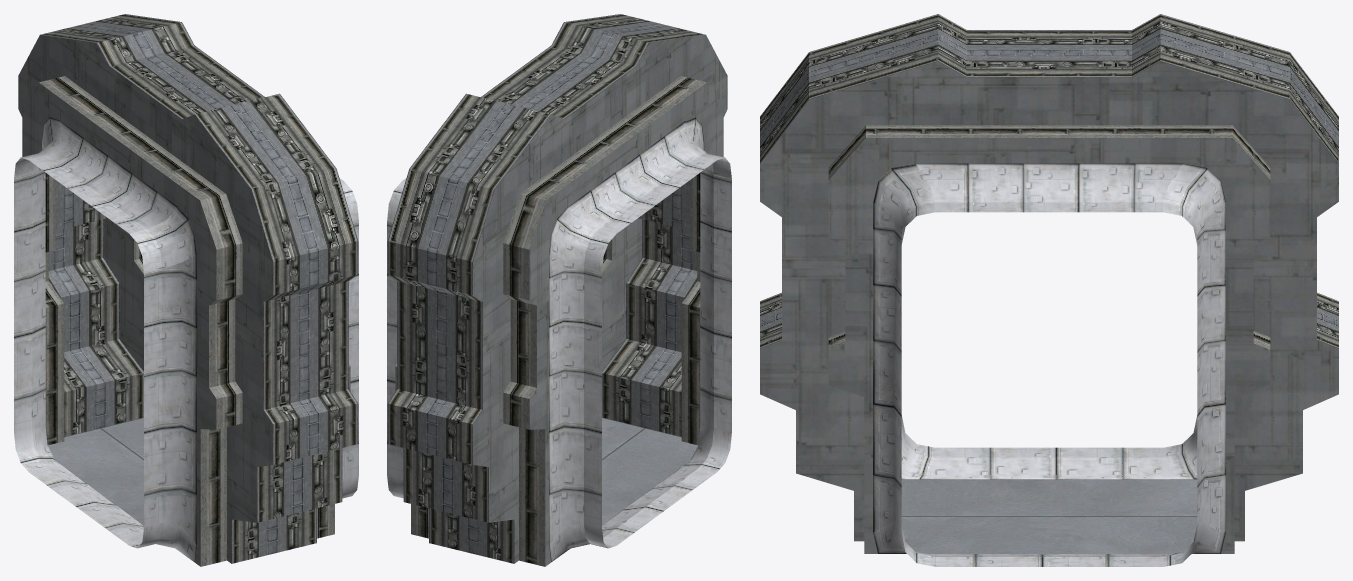
Rendered from poi_all_rebl_bunker_s01_r15_securitydoor1_mesh_r15.fbx.
3 renders of one model, left to right at view 1: azimuth 30°, elevation 25°; view 2: azimuth 150°, elevation 25°; view 3: azimuth 270°, elevation 25°, orthographic. The views are drawn at different scales.
Parts seen in each view (by area): view 1: mesh_node; view 2: mesh_node; view 3: mesh_node.
Boxes of the visible parts, x1,y1,x2,y2 form: mesh_node: (14,14,358,566); mesh_node: (387,14,731,566); mesh_node: (760,14,1338,566).
Size of the model in its own units: 2 by 3.75 by 4.1.
